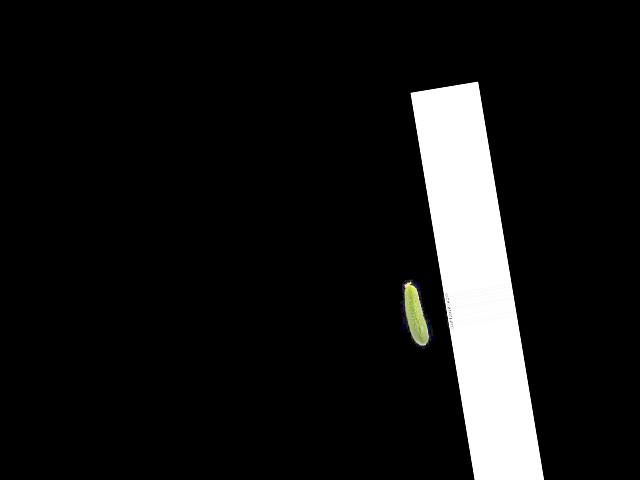cucumber: (401, 280, 430, 347)
